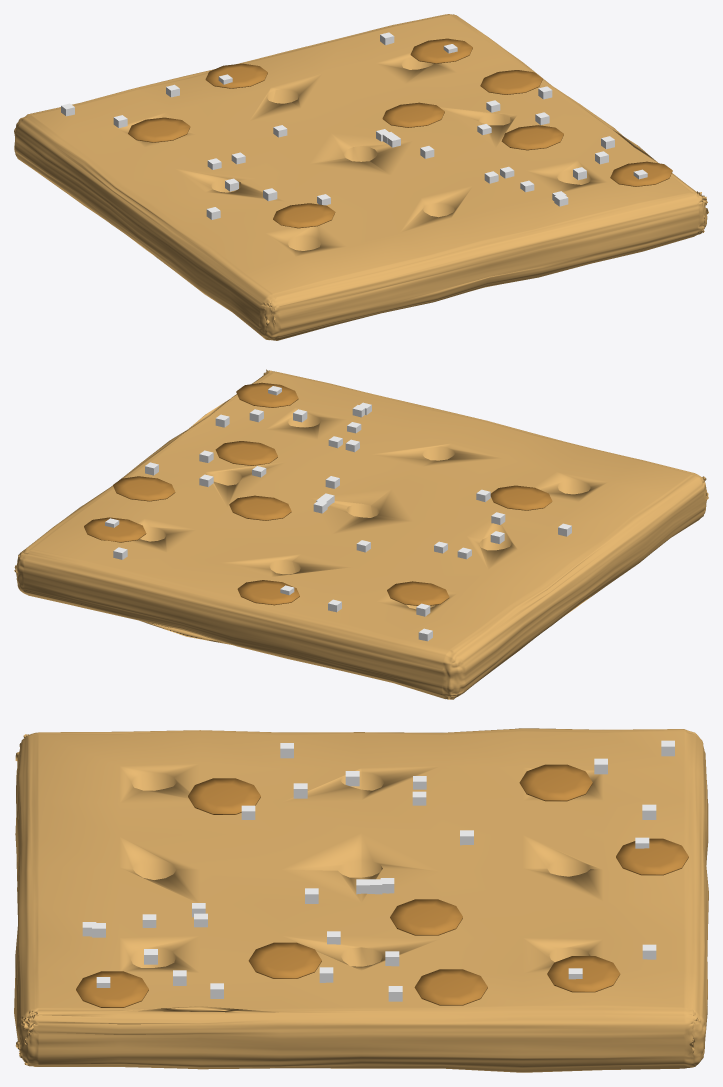
The model's file is items-cracker.glb.
3 renders of one model, top to bottom at view 1: azimuth 30°, elevation 25°; view 2: azimuth 150°, elevation 25°; view 3: azimuth 270°, elevation 25°, orthographic. The views are drawn at different scales.
Visible parts, largest first — view 1: Cracker__Cracker, Cracker__Toast, Cracker__Salt; view 2: Cracker__Cracker, Cracker__Toast, Cracker__Salt; view 3: Cracker__Cracker, Cracker__Toast, Cracker__Salt.
Part boxes in pixels (bbox=[...]): Cracker__Cracker: bbox=[14, 14, 708, 340]; Cracker__Toast: bbox=[128, 38, 672, 228]; Cracker__Salt: bbox=[61, 32, 647, 219]; Cracker__Cracker: bbox=[14, 369, 708, 699]; Cracker__Toast: bbox=[84, 382, 552, 605]; Cracker__Salt: bbox=[105, 386, 571, 641]; Cracker__Cracker: bbox=[14, 728, 708, 1072]; Cracker__Toast: bbox=[76, 764, 688, 1007]; Cracker__Salt: bbox=[82, 740, 674, 1001].
Bounding box in the file's own units: 9.08 × 1.07 × 9.05.
